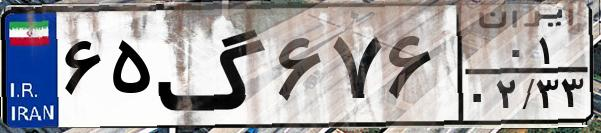0: (508, 27, 537, 80), (470, 70, 495, 125)
1: (537, 27, 568, 80)
2: (495, 70, 520, 125)
3: (560, 70, 590, 125), (535, 70, 560, 125)
5: (110, 28, 156, 98)
6: (270, 28, 330, 110), (385, 28, 445, 110), (57, 26, 110, 100)
7: (330, 28, 385, 110)
گ: (156, 12, 270, 120)
